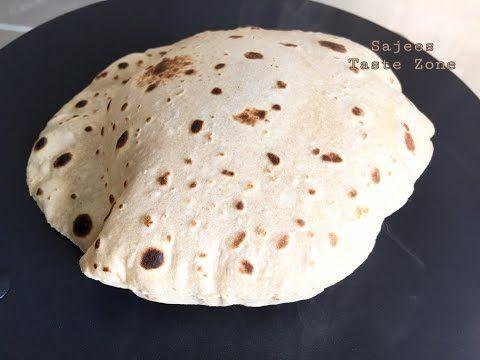roti phulka: (26, 35, 347, 309)
